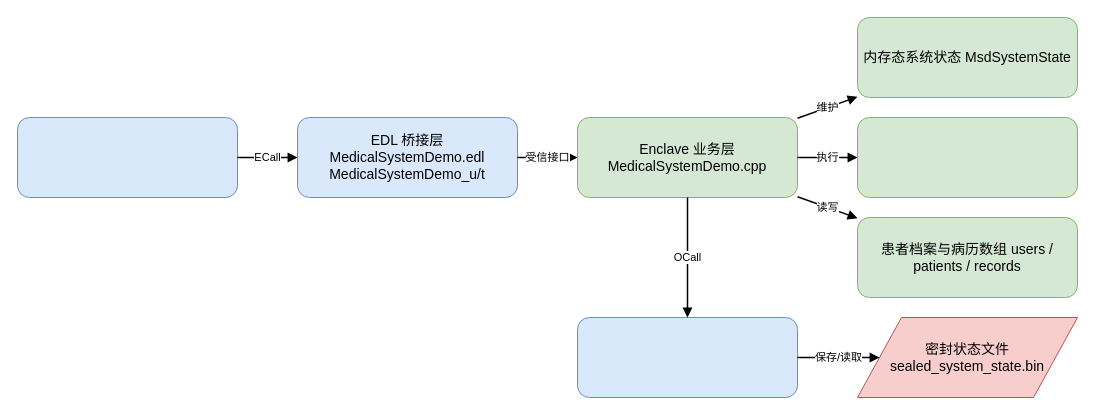
Some shapes in this 1095 by 415 pixel diagram are drawn without their labels. The centre of each missing label's shape, as x and y in pixels:
"OCall 外部服务 打印日志 / 文件读写 / 获取时间" belongs at point (687, 357).
"控制台宿主程序 MedicalSystemDemo_app.cpp" belongs at point (127, 157).
"权限与会话控制 current_user / has_role" belongs at point (967, 157).
